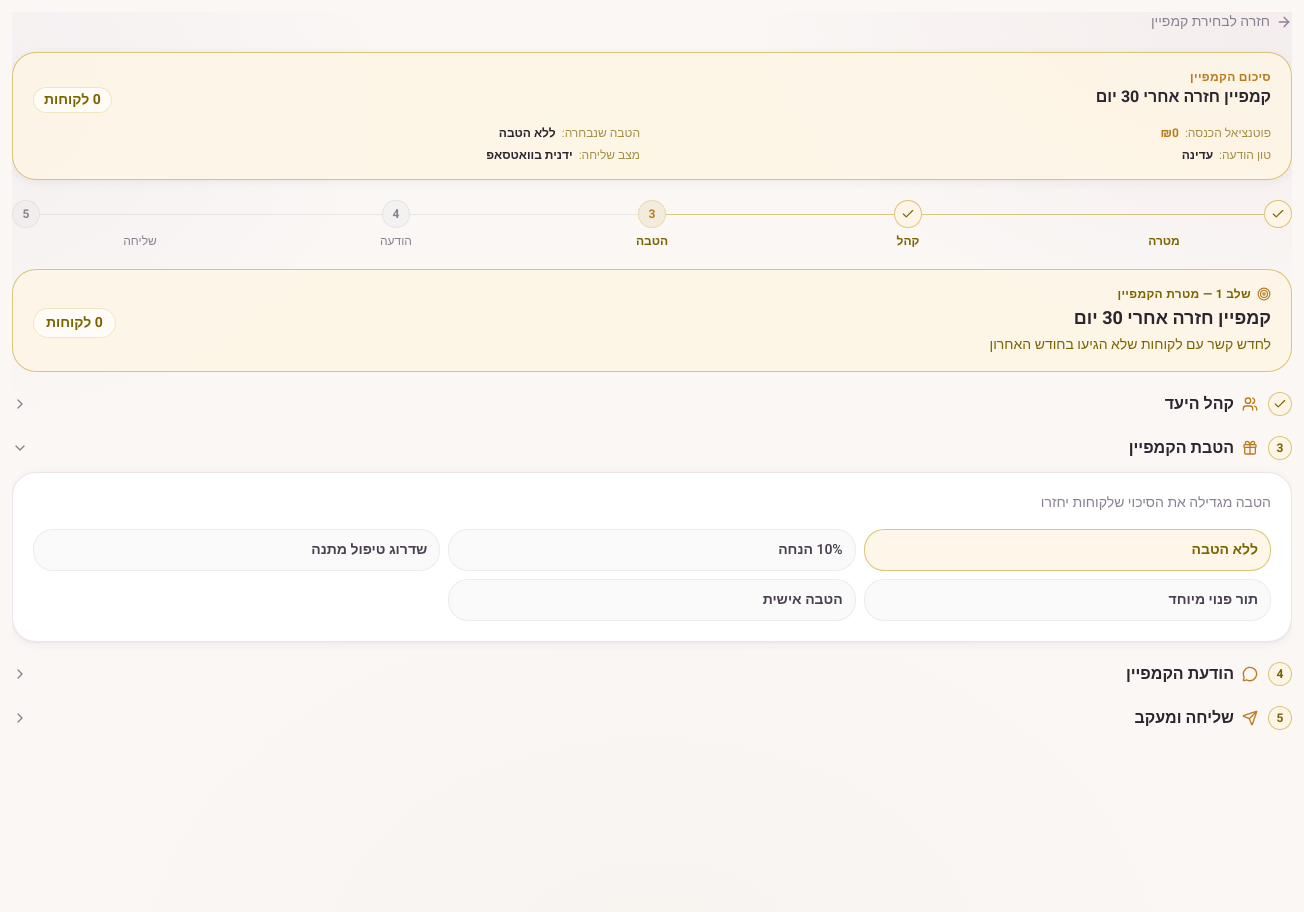
Test: CampaignView — empty audiences & invalid phones › shows the no-recipients audience state for an empty campaign
This screenshot has width=1304, height=912.
Click the button "קהל היעד" at {"x": 1199, "y": 404}, box [12, 392, 1292, 416]
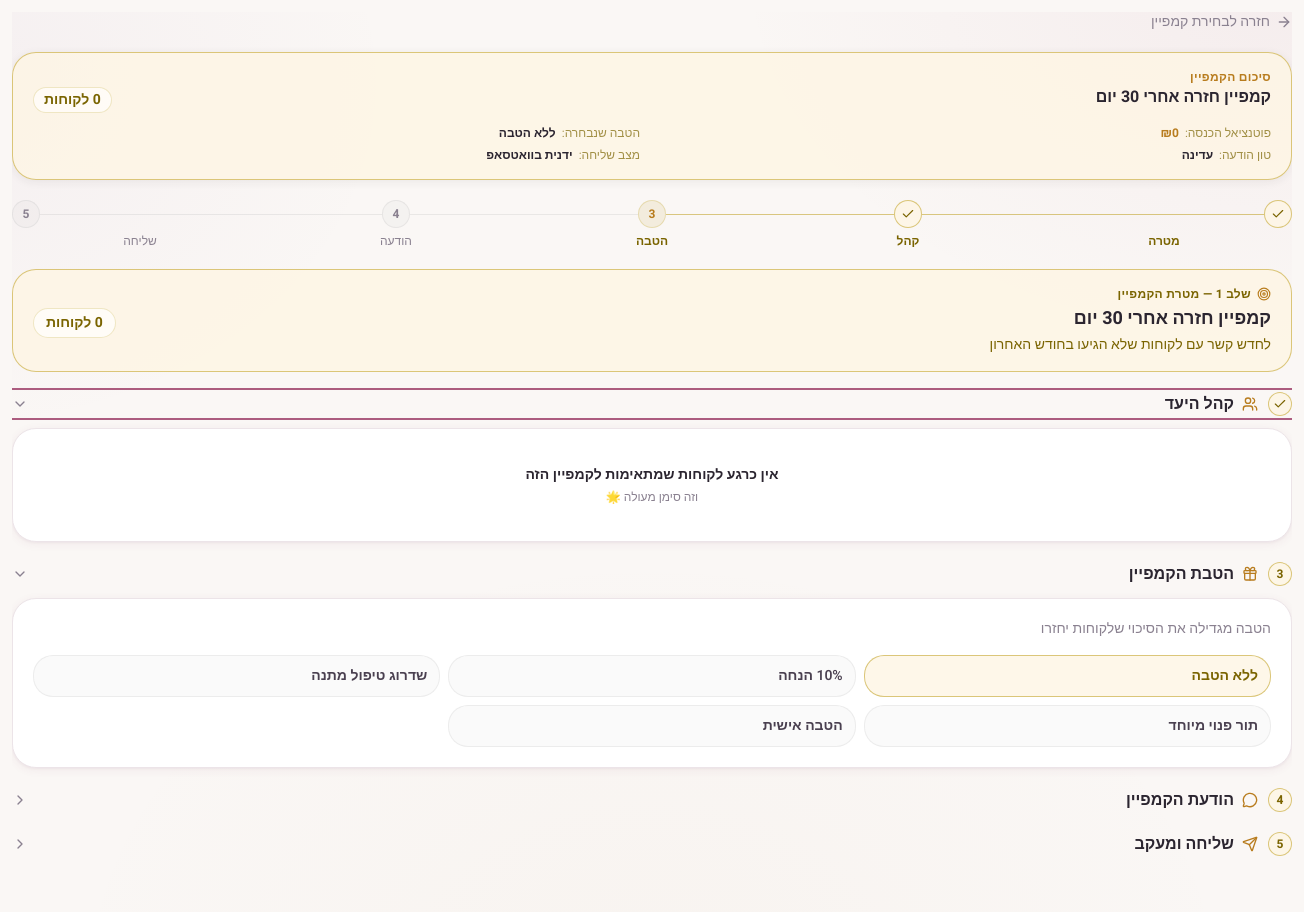
Expected: the text "אין כרגע לקוחות שמתאימות לקמפיין הזה" is shown, [525, 464, 778, 484]
